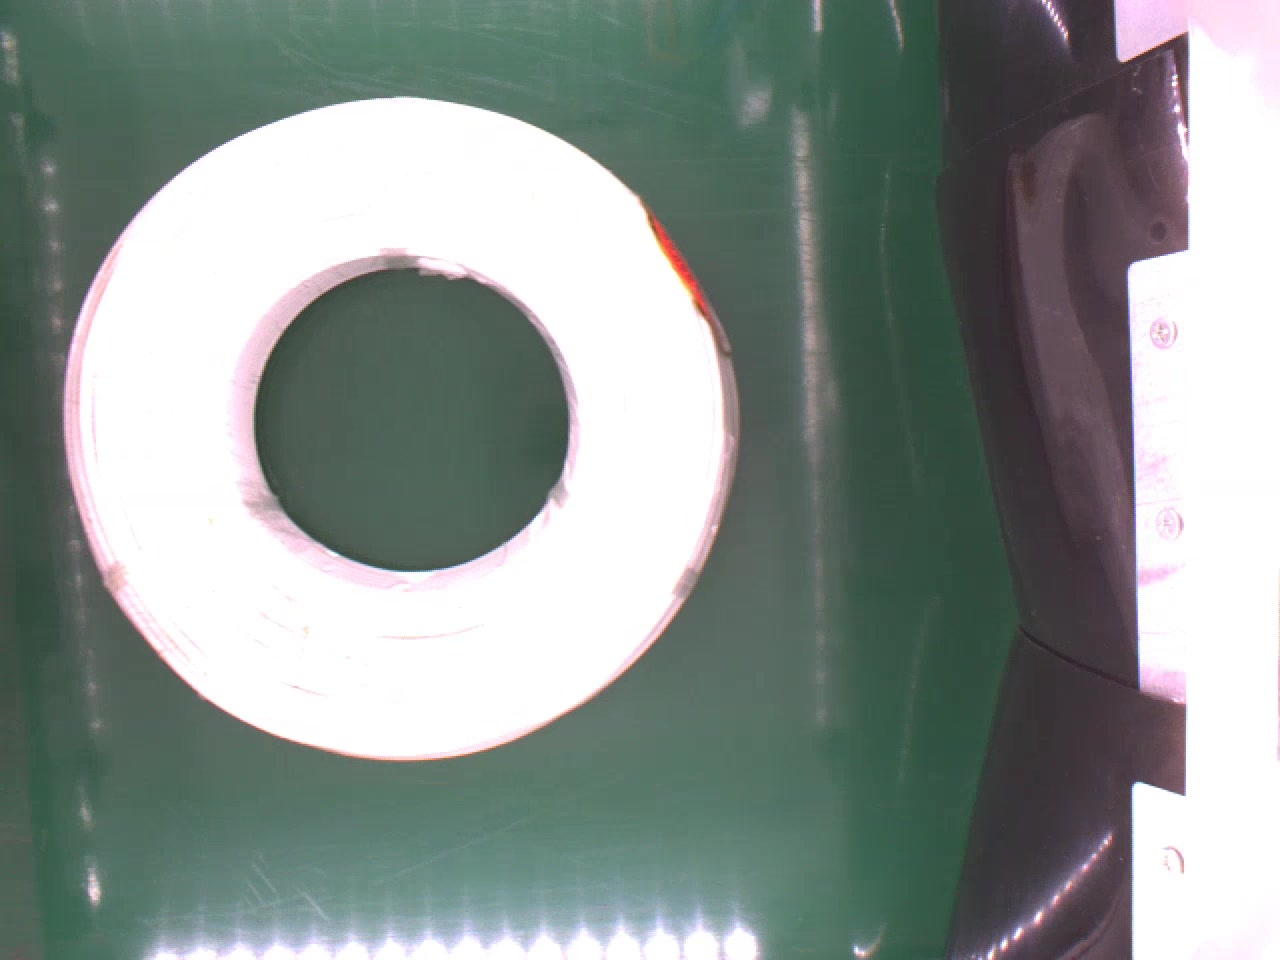white: (58, 90, 749, 764)
